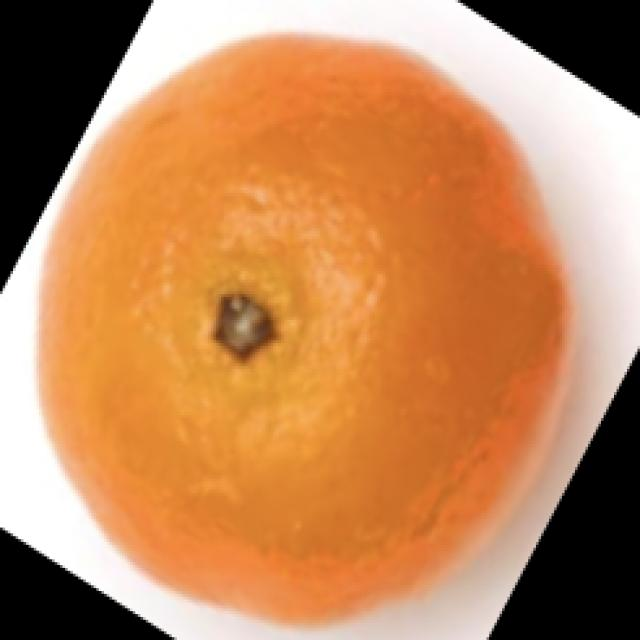fresh: (31, 18, 574, 636)
